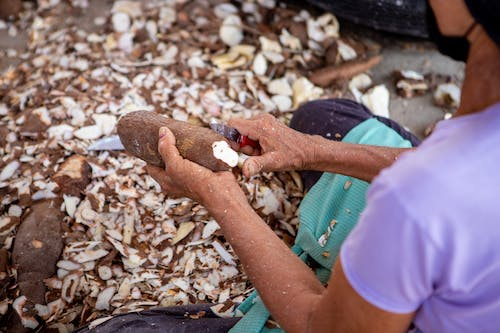knife: (208, 120, 262, 150), (86, 136, 124, 151)
